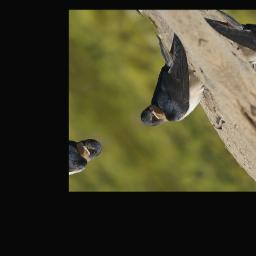Swallow: (96, 25, 225, 136)
